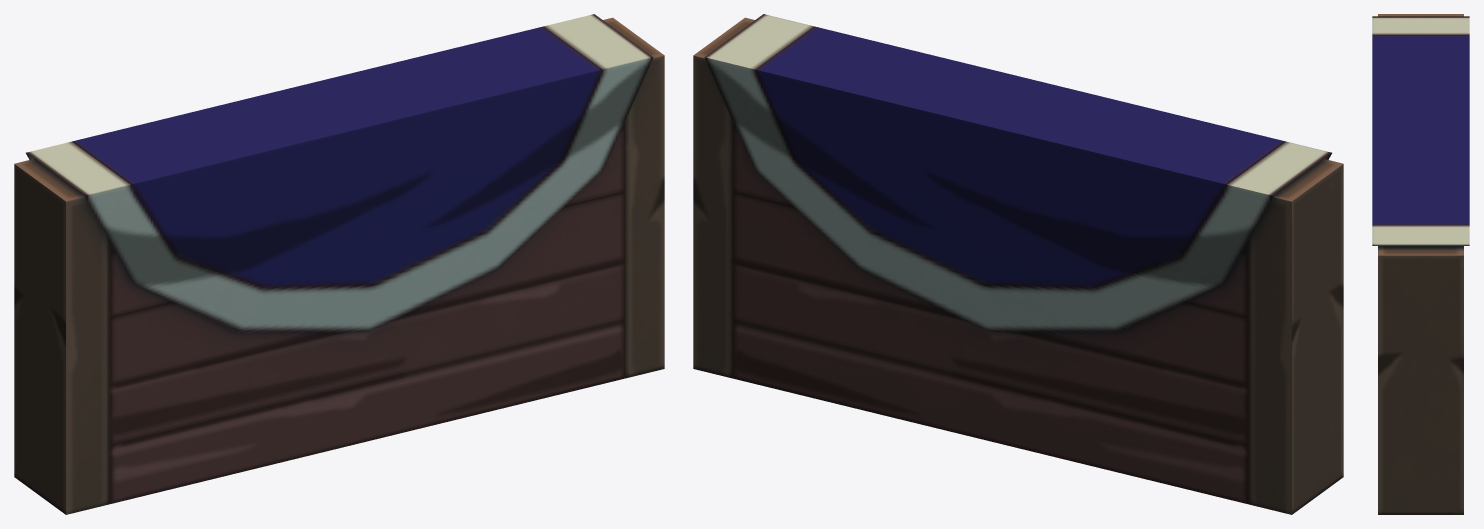
File: arena_7.FBX
3 renders of one model, left to right at view 1: azimuth 30°, elevation 25°; view 2: azimuth 150°, elevation 25°; view 3: azimuth 270°, elevation 25°, orthographic. The views are drawn at different scales.
Parts seen in each view (by area): view 1: Box008; view 2: Box008; view 3: Box008.
Boxes of the visible parts, <box> form: Box008: <box>14,14,664,514</box>; Box008: <box>693,14,1343,514</box>; Box008: <box>1372,14,1469,514</box>.
Size of the model in its own units: 280 by 142 by 47.8.
